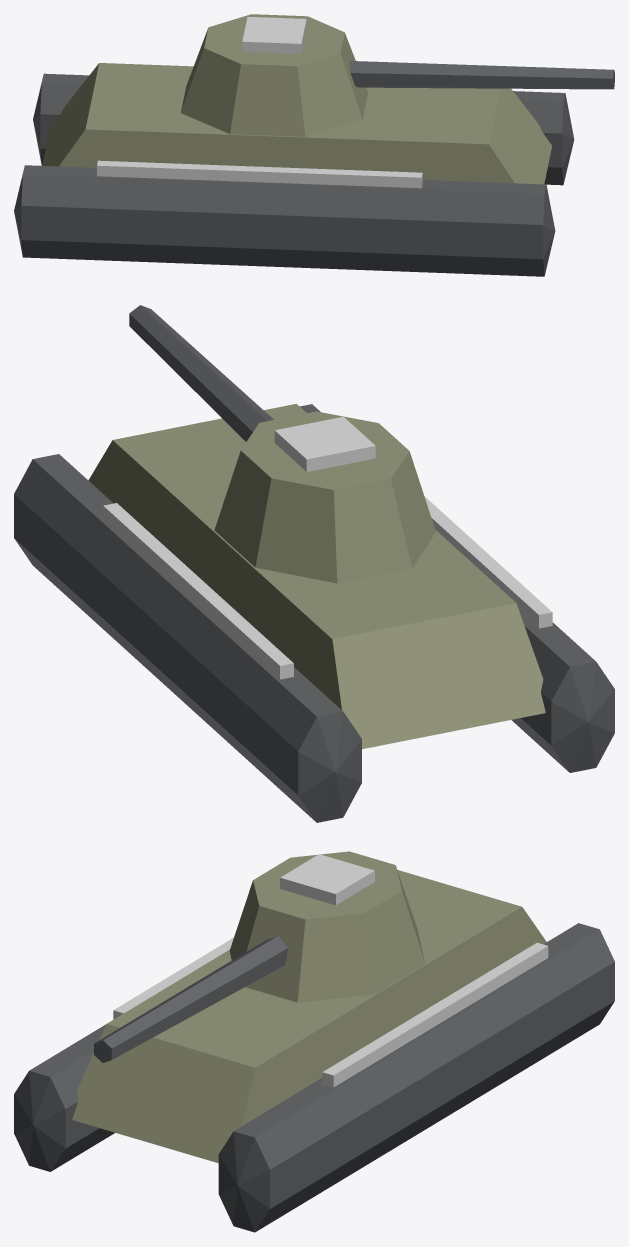
File: tank.glb
The picture shows the model from 3 angles, top to bottom: view 1: azimuth 30°, elevation 25°; view 2: azimuth 150°, elevation 25°; view 3: azimuth 270°, elevation 25°; orthographic projection. The views are drawn at different scales.
Parts seen in each view (by area): view 1: LOD0; view 2: LOD0; view 3: LOD0.
Boxes of the visible parts, bbox=[...] form: LOD0: bbox=[14, 14, 614, 276]; LOD0: bbox=[14, 305, 614, 822]; LOD0: bbox=[14, 851, 614, 1232].
Size of what is drawn, in the model's own units: 1.18 by 0.4144 by 1.06.
